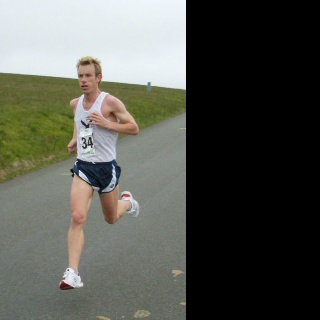without_mask: (78, 65, 100, 95)
